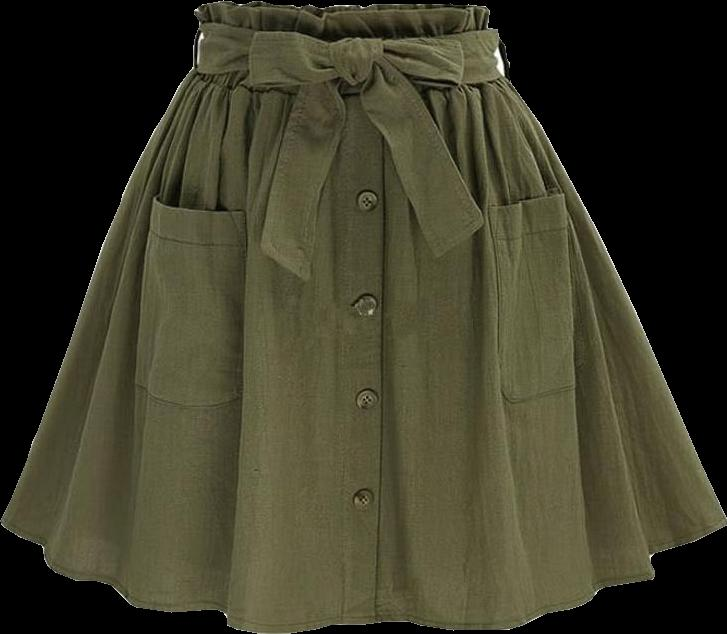Hemline: (0, 516, 726, 633)
Waistline: (187, 69, 505, 100), (195, 3, 487, 22)
